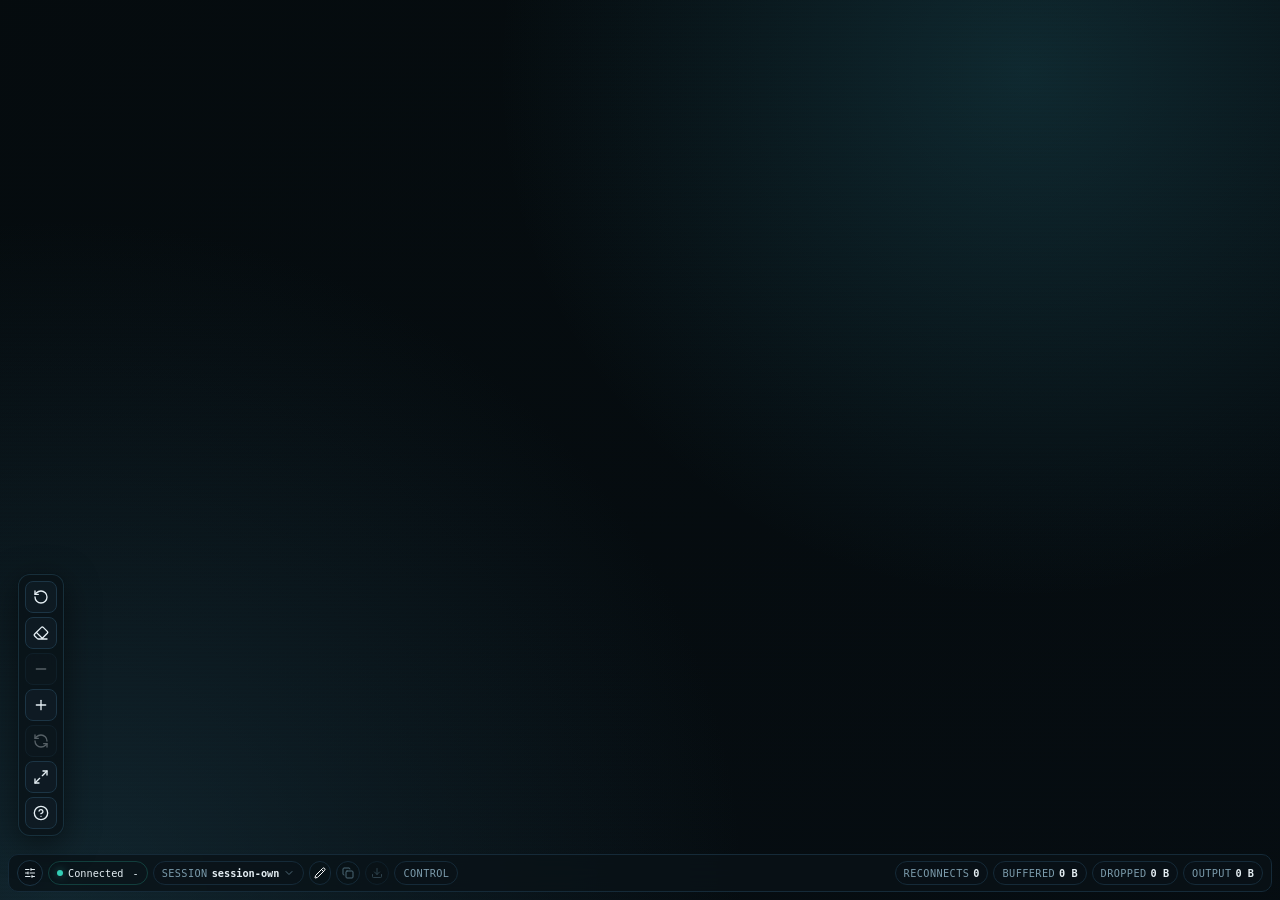
it: App integration - session menu › shows a refresh notice when live session refresh throws
Step 1. Click the button with test id "session-menu-button" → (228, 873), box [153,861,304,885]
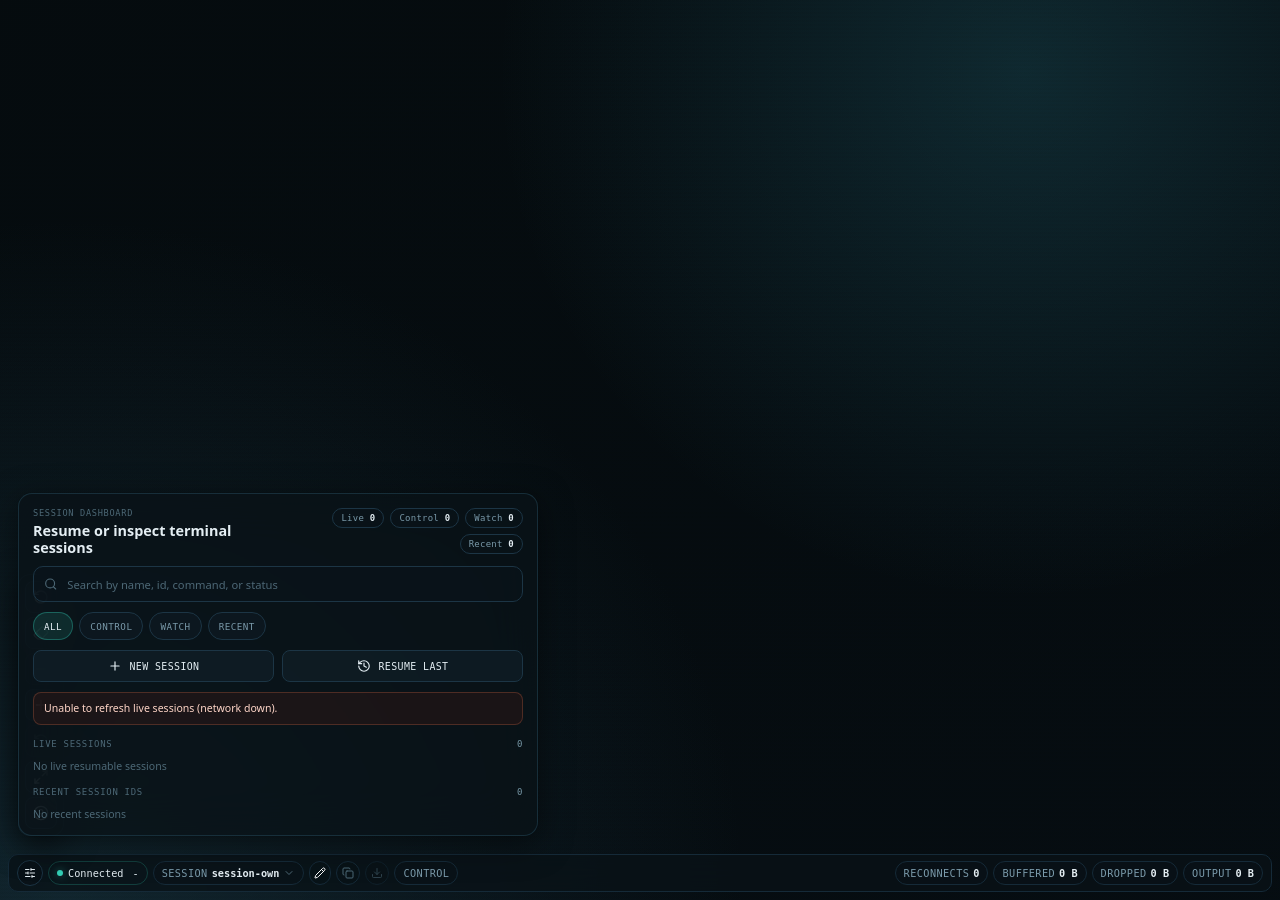
Now the text with test id "session-menu-notice" shows "Unable to refresh live sessions", box [44,701,277,715]
